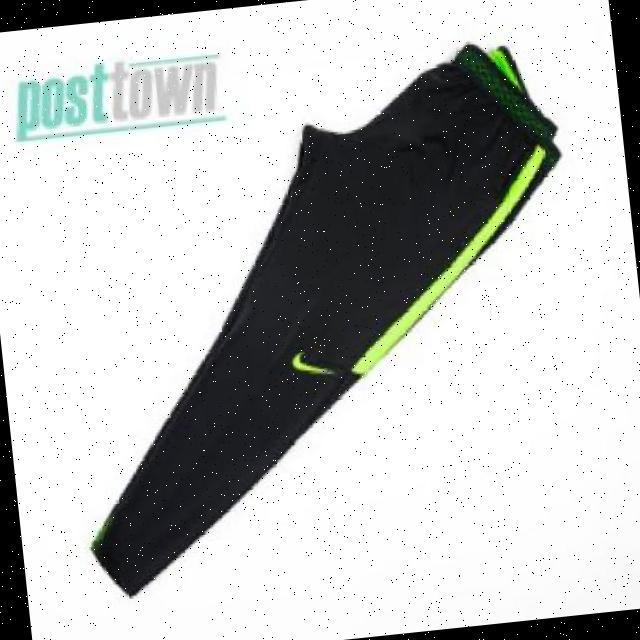Nike: (289, 345, 333, 375)
